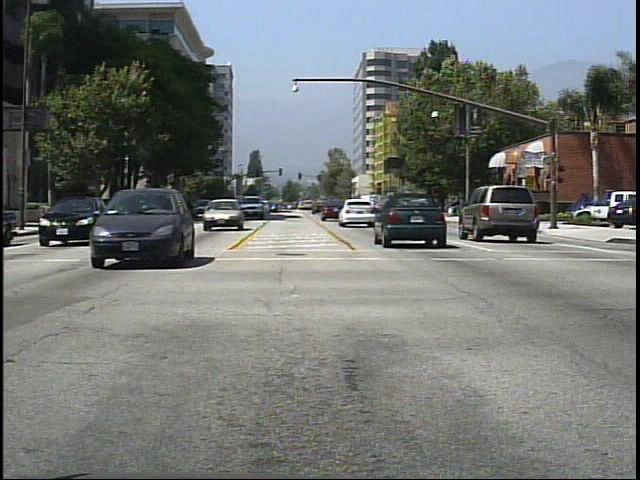person: (513, 195, 532, 231), (481, 190, 499, 225)
